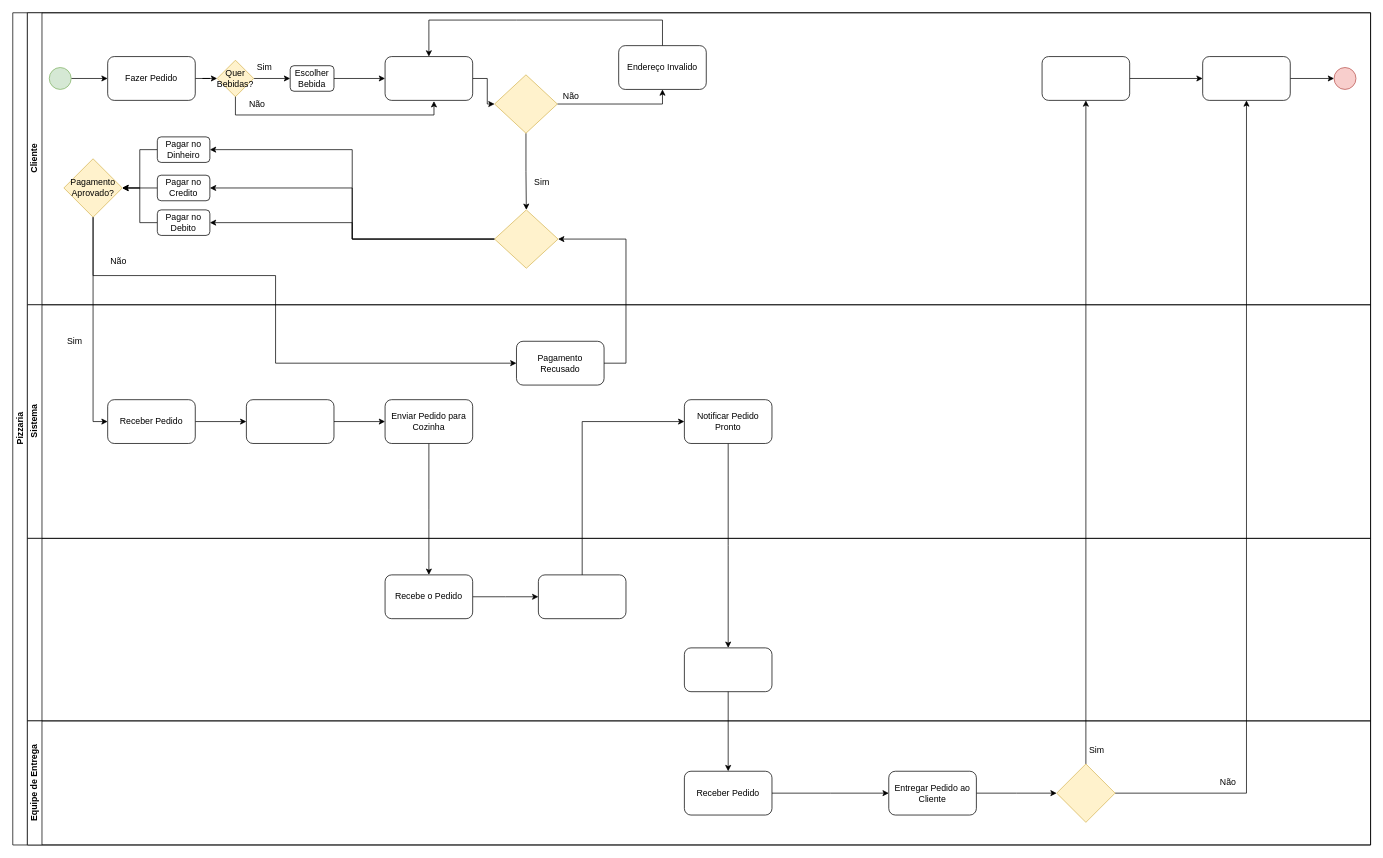
Some shapes in this 1383 by 858 pixel diagram are drawn without their labels. Here are the shapes that lost their labels. From the top down, the box of each, then its label:
(384, 56, 473, 100): Inserir Endereço
(1041, 56, 1130, 100): Pagar o Entregador
(1202, 56, 1290, 100): Receber o Pedido
(494, 74, 557, 133): Endereço Valido?
(494, 209, 558, 268): Escolher Metodo de Pagamento
(246, 399, 334, 443): Descontar do Estoque Ingredientes Necessarios
(538, 574, 626, 619): Preparar Pedido
(27, 538, 1371, 721): Cozinha
(684, 647, 772, 692): Enviar para Equipe de Entrega
(1056, 763, 1115, 822): Pagamento em Dinheiro?
